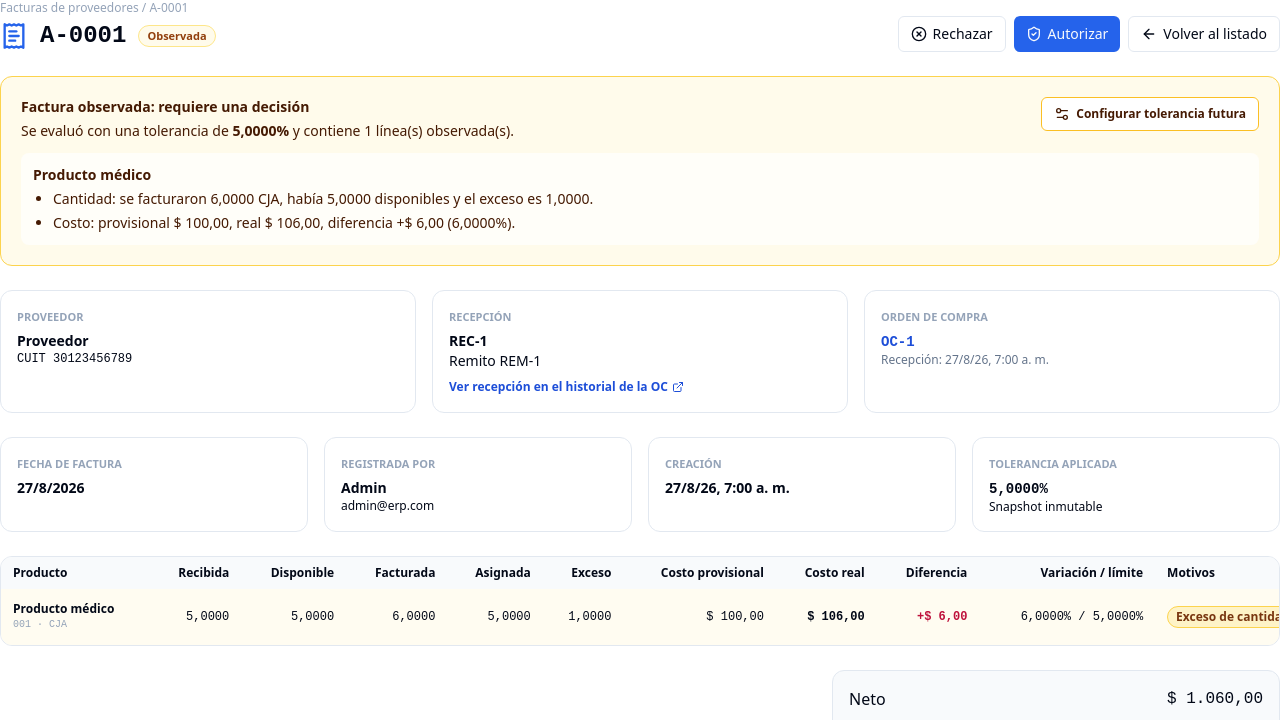
Test case: SupplierInvoiceDetailPage observed workflow › requires and submits a rejection reason
Click the button "Rechazar".
click(952, 34)  # box [898, 16, 1006, 52]
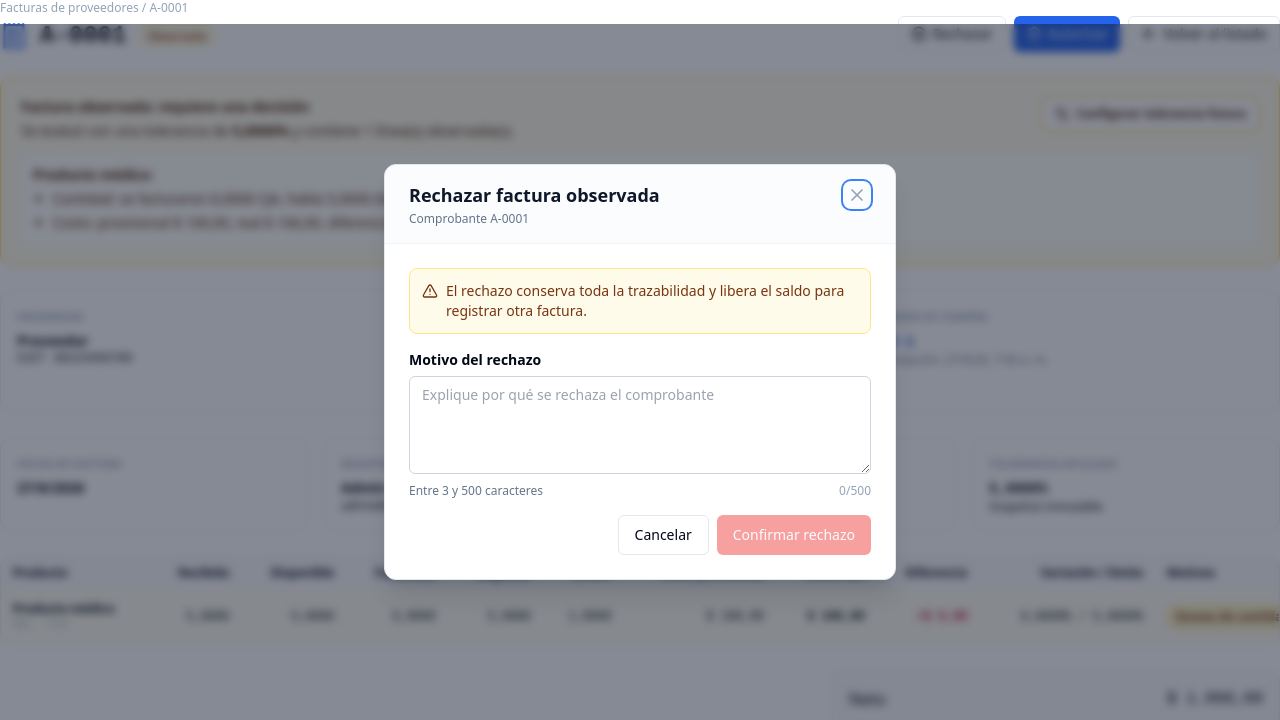
Type "Costo no acordado" into the text box labelled "Motivo del rechazo".
click(640, 425); type("Costo no acordado")  # box [409, 376, 871, 474]
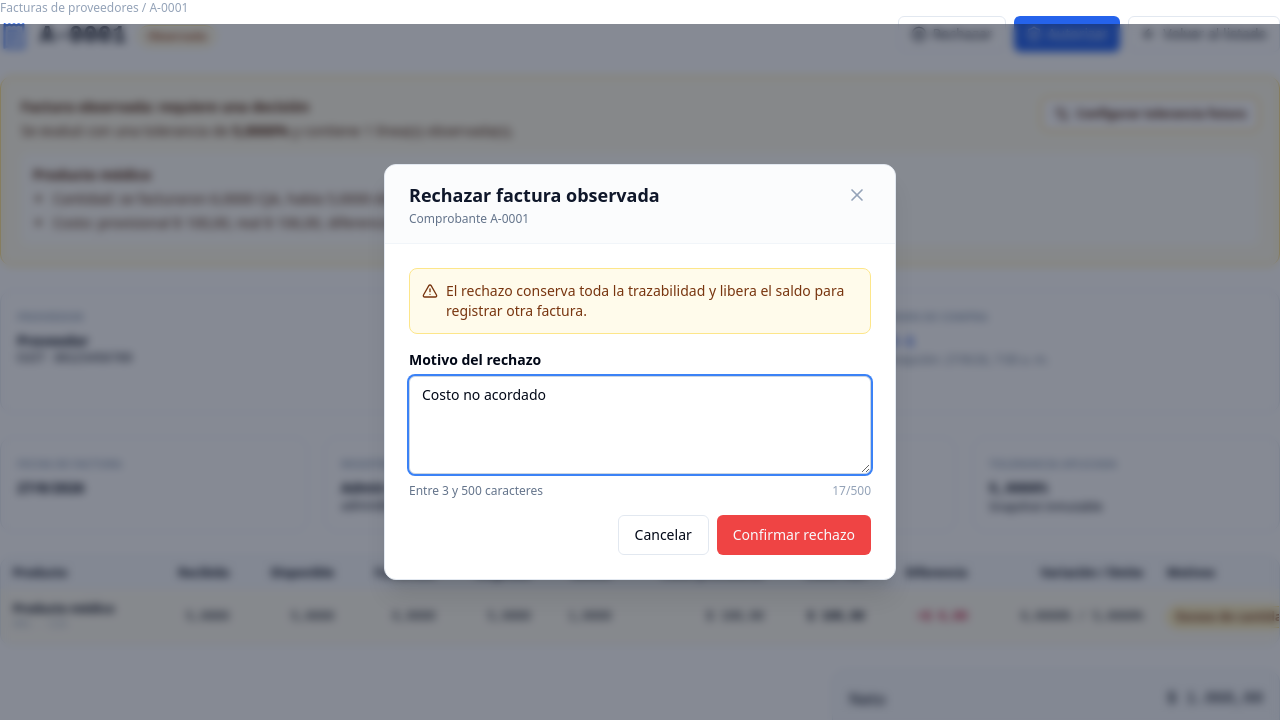
Click the button "Confirmar rechazo".
click(794, 535)  # box [717, 515, 871, 555]
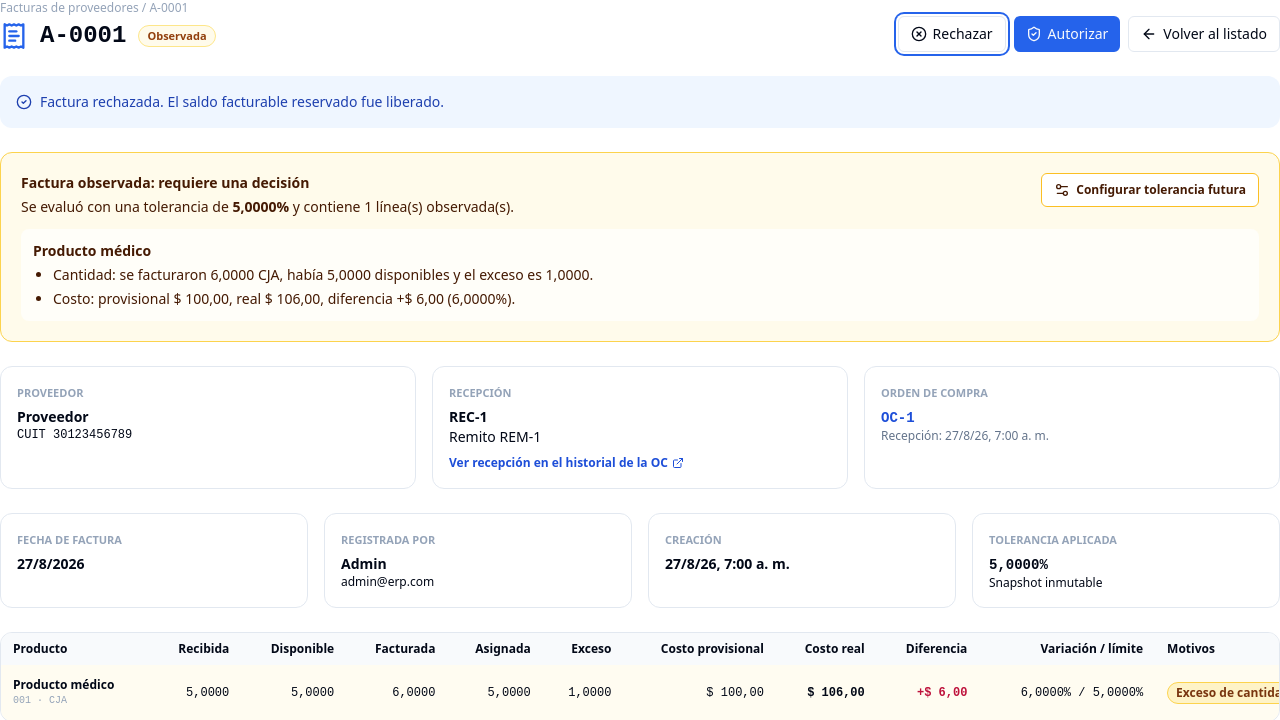
Check: the message "Factura rechazada. El saldo facturable reservado fue liberado." is shown, box [0, 76, 1279, 128]
